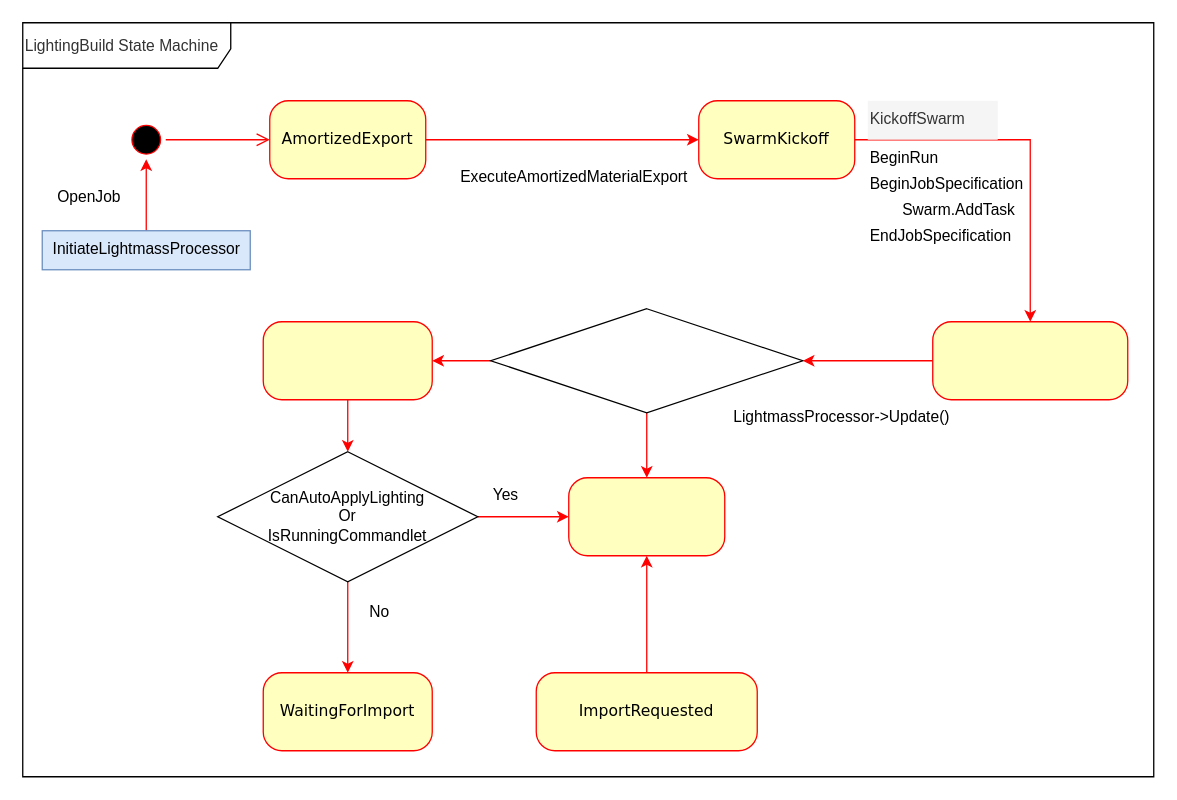
Image size: 1177x800. Some labels were removed from this diagram. The centre of each missing label's shape, as x and y in pixels:
"AsynchronousBuilding" belongs at point 1029,360.
"AutoApplyingImport" belongs at point 347,360.
"Finished" belongs at point 646,516.
"IsProcessingCompletedSuccessfully" belongs at point 646,360.
